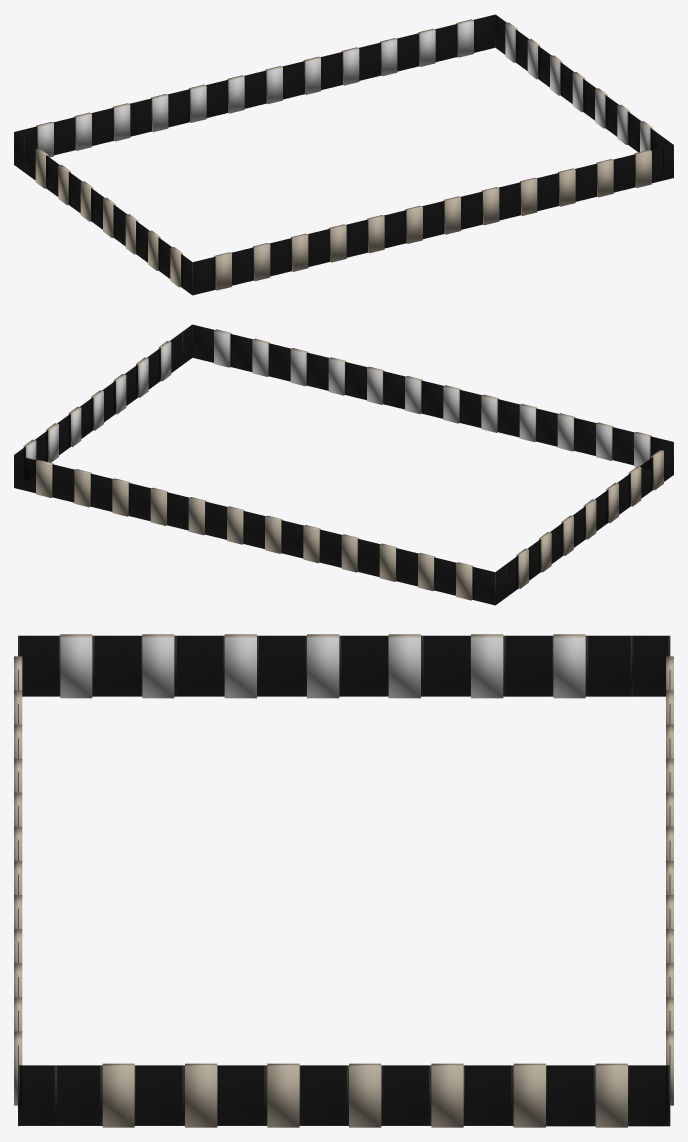
File: PunchWindows_WWR40p_9ft.obj
3 views of the same model, one above another, from view 1: azimuth 30°, elevation 25°; view 2: azimuth 150°, elevation 25°; view 3: azimuth 270°, elevation 25° (orthographic). The views are drawn at different scales.
Visible parts, largest first — view 1: group_tintglass, group_Exterior_Envelope, group_InteriorPaint, group_Mullion, group_InteriorTransparent; view 2: group_tintglass, group_Exterior_Envelope, group_InteriorPaint, group_Mullion; view 3: group_tintglass, group_Exterior_Envelope, group_InteriorPaint, group_Mullion.
Part boxes in pixels (bbox=[...]): group_tintglass: bbox=[14, 14, 673, 295]; group_Exterior_Envelope: bbox=[35, 19, 652, 290]; group_InteriorPaint: bbox=[38, 21, 648, 157]; group_Mullion: bbox=[14, 14, 673, 295]; group_InteriorTransparent: bbox=[267, 67, 282, 103]; group_tintglass: bbox=[14, 324, 673, 605]; group_Exterior_Envelope: bbox=[23, 329, 663, 600]; group_InteriorPaint: bbox=[27, 331, 649, 466]; group_Mullion: bbox=[14, 324, 673, 605]; group_tintglass: bbox=[18, 635, 670, 1126]; group_Exterior_Envelope: bbox=[14, 634, 673, 1127]; group_InteriorPaint: bbox=[60, 637, 585, 698]; group_Mullion: bbox=[18, 635, 670, 1126].
Size of the model in its own units: 38.71 by 2.53 by 24.94.
